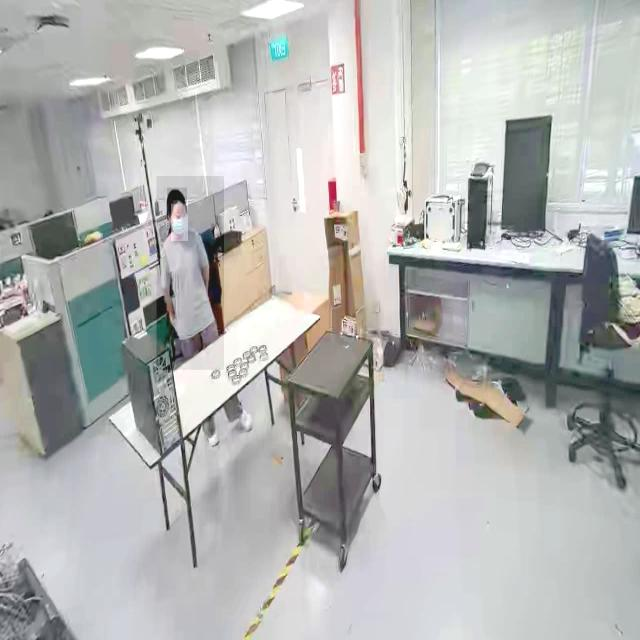face_mask: (171, 200, 188, 241)
head_nohelmet: (167, 188, 187, 205)
person: (156, 176, 224, 371)
shoes: (238, 401, 254, 435)
